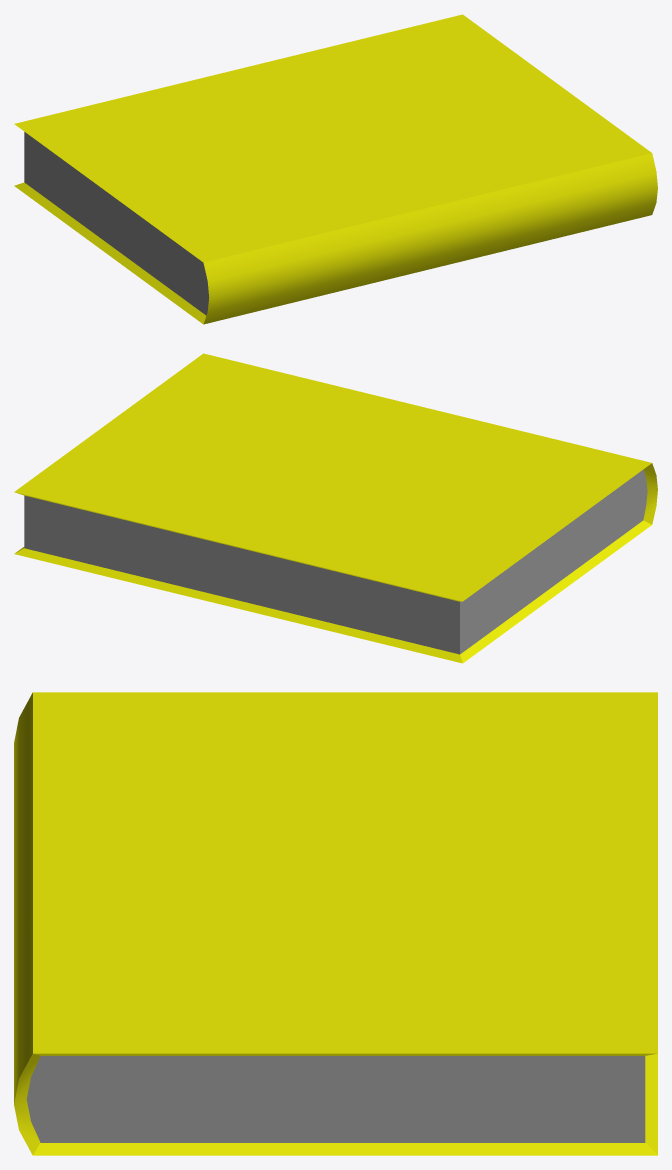
Rendered from book.glb.
The picture shows the model from 3 angles, top to bottom: view 1: azimuth 30°, elevation 25°; view 2: azimuth 150°, elevation 25°; view 3: azimuth 270°, elevation 25°; orthographic projection. The views are drawn at different scales.
Parts seen in each view (by area): view 1: pCube1; view 2: pCube1; view 3: pCube1.
Boxes of the visible parts, left/top/right/bottom form: pCube1: left=14, top=14, right=657, bottom=324; pCube1: left=14, top=353, right=657, bottom=663; pCube1: left=14, top=692, right=657, bottom=1155.
Bounding box in the file's own units: 0.0137 × 0.0018 × 0.0103.
2 materials, 1 textured.
